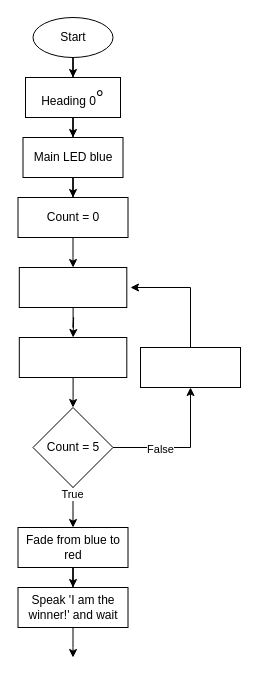
Some shapes in this 258 by 683 pixel diagram are drawn without their labels. Each missing label, with the centre of its shape:
Count = Count + 1: point (190, 367)
Spin -365 °: point (72, 357)
Spin 365 °: point (72, 287)
